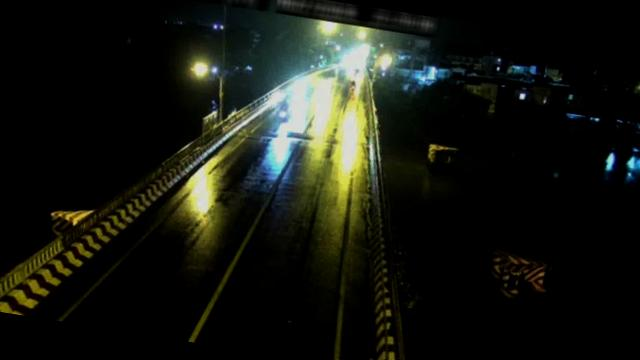Bike: (274, 93, 292, 118)
